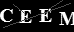C: (1, 8, 13, 22)
E: (17, 9, 32, 24), (38, 8, 53, 23)
M: (58, 11, 73, 26)
